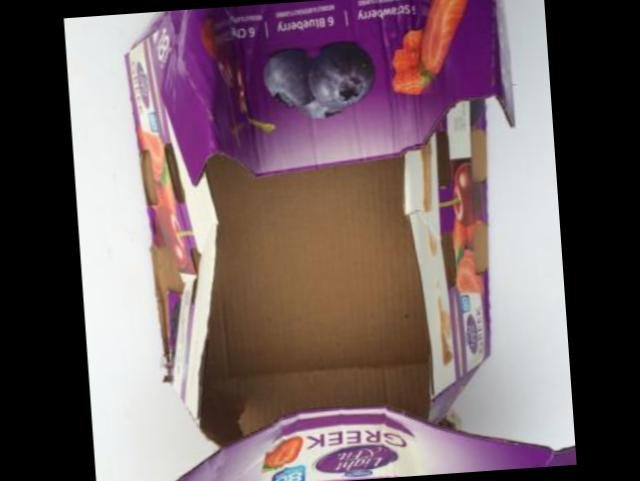cardboard paper: (124, 0, 510, 445)
